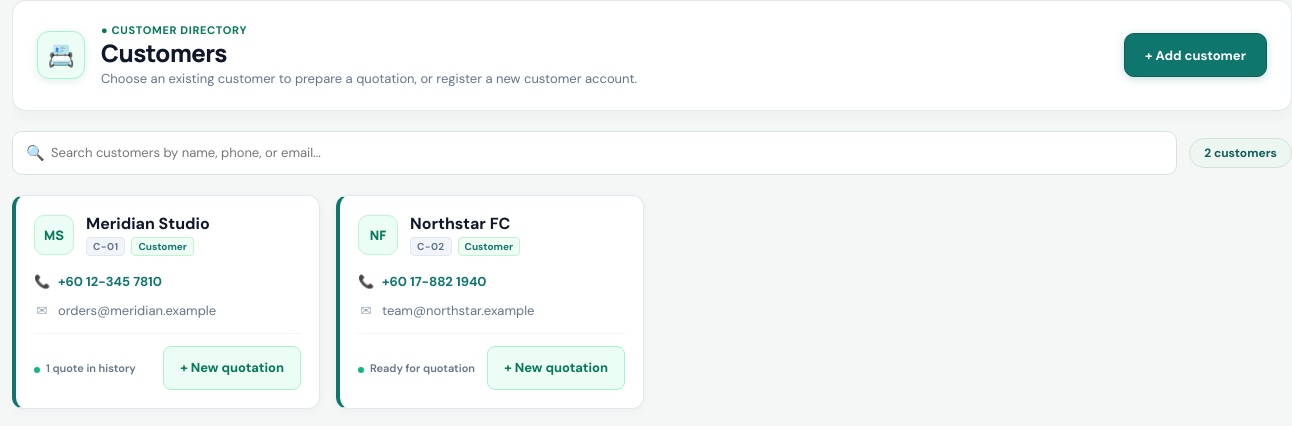
Scenario: ContactsView customer directory › filters customers dynamically via instant search
The image size is (1292, 426).
Type "northstar" into the search field labelled "Search customers by name, phone, or email...".
click(595, 153); type("northstar")  # box [12,131,1177,175]
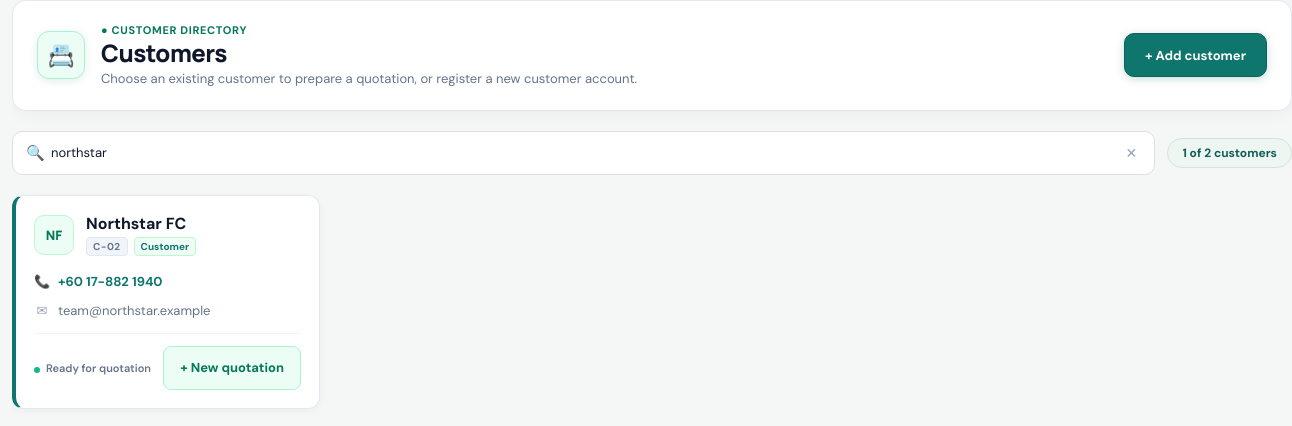
Expected: the heading "Northstar FC" is shown, [86,214,196,235]
Result: the heading "Meridian Studio" is gone
Result: the text "1 of 2 customers" is shown at [1167,138,1291,168]
# Clear search button restores all customers
Click the button named "clear search".
click(1131, 153)  # box [1117,139,1145,167]
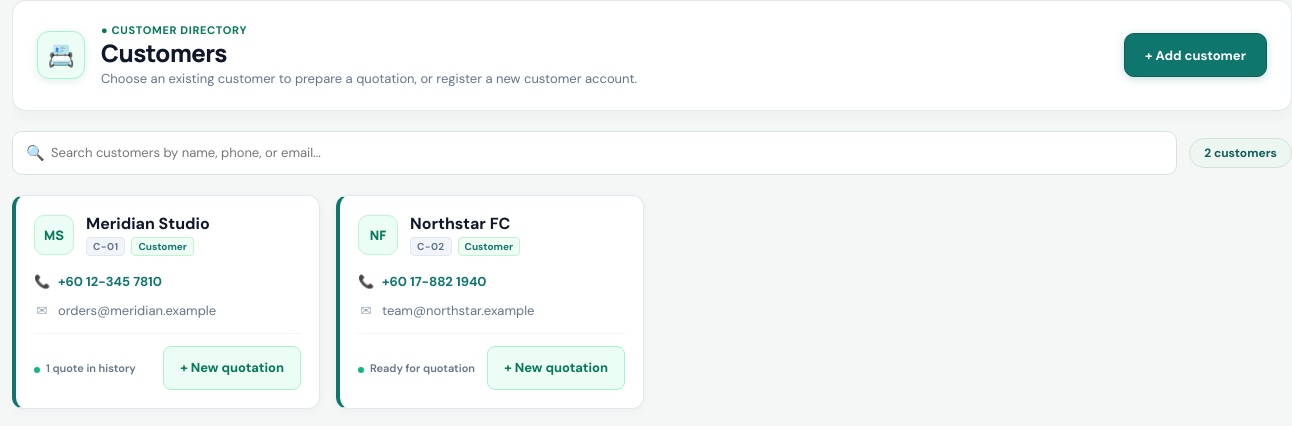
Expected: the heading "Northstar FC" is shown, [410,214,520,235]
Result: the heading "Meridian Studio" is shown at [86,214,210,235]
